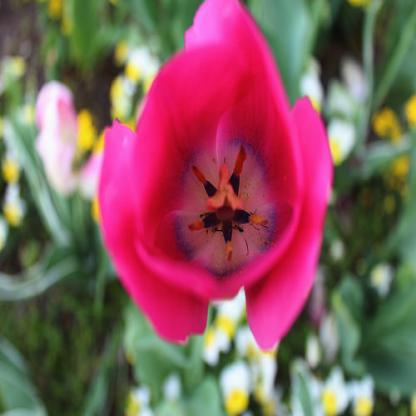TULIP: (104, 11, 353, 365)
